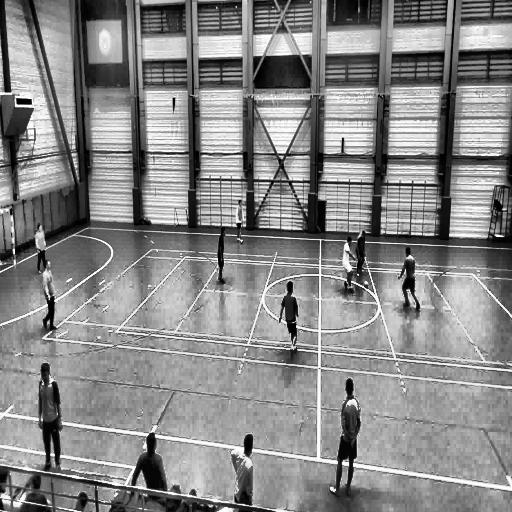ball: (364, 282, 368, 288)
player: (330, 378, 360, 498), (38, 362, 63, 468), (279, 280, 299, 356), (397, 246, 419, 310), (40, 258, 57, 329), (342, 236, 357, 294), (35, 224, 47, 276), (218, 227, 226, 284), (356, 230, 366, 274), (236, 200, 244, 243)
